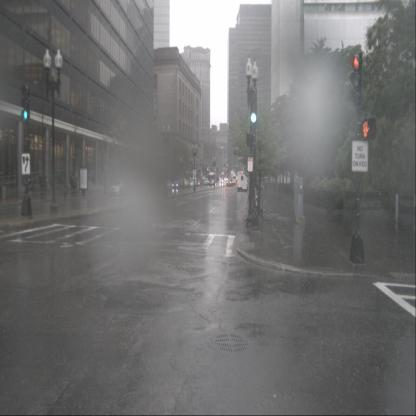vehicle-bus-rigid: (237, 171, 248, 191), (208, 172, 216, 186)
vehicle-car: (109, 179, 127, 194), (172, 180, 181, 189), (164, 180, 172, 189), (181, 178, 187, 188), (178, 179, 184, 188), (191, 178, 197, 186), (184, 180, 190, 188), (190, 180, 195, 187), (204, 178, 209, 185), (227, 179, 231, 186), (232, 178, 235, 186)
